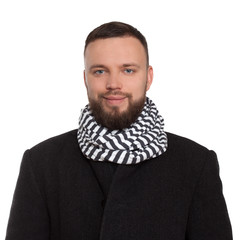young: (73, 20, 154, 134)
